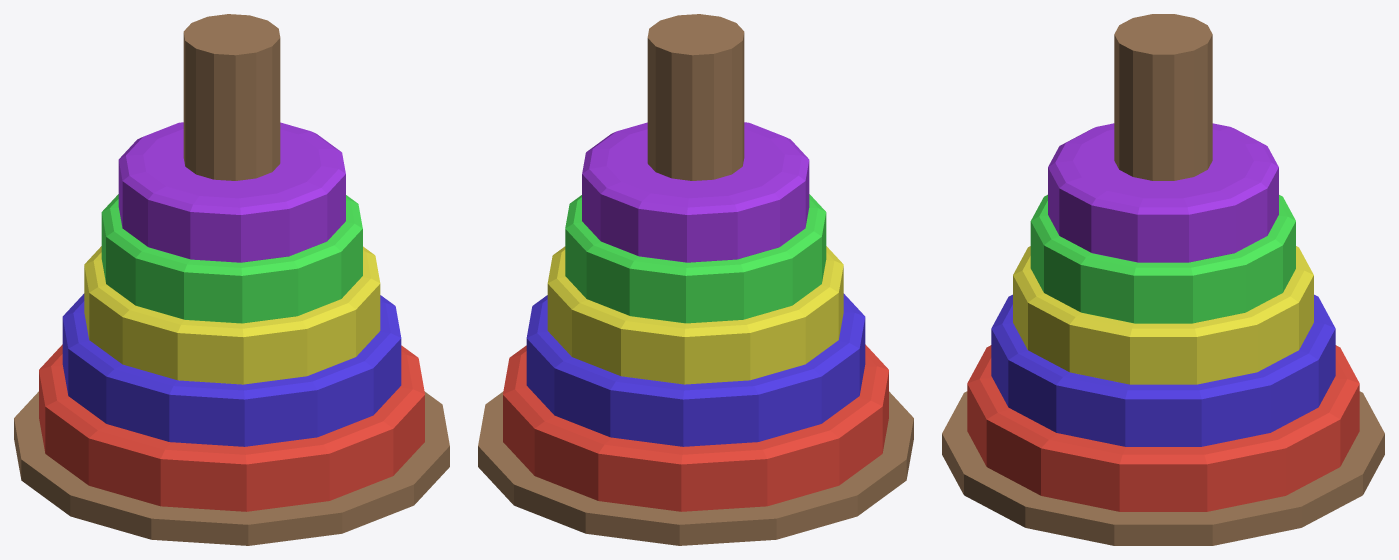
File: stacking_rings.fbx
3 views of the same model, side by side, from view 1: azimuth 30°, elevation 25°; view 2: azimuth 150°, elevation 25°; view 3: azimuth 270°, elevation 25° (orthographic).
Visible parts, largest first — view 1: Base, Red_ring, Blue_ring, Purple_ring, Yellow_ring, Green_ring; view 2: Base, Red_ring, Blue_ring, Purple_ring, Yellow_ring, Green_ring; view 3: Base, Red_ring, Blue_ring, Purple_ring, Yellow_ring, Green_ring.
Part boxes in pixels (box(x1,y1,x2,y2)): Base: box(14, 14, 449, 545); Red_ring: box(39, 344, 424, 511); Blue_ring: box(62, 293, 401, 446); Purple_ring: box(118, 122, 345, 262); Yellow_ring: box(84, 246, 380, 384); Green_ring: box(101, 194, 362, 323); Base: box(478, 14, 913, 545); Red_ring: box(503, 344, 888, 511); Blue_ring: box(526, 293, 865, 446); Purple_ring: box(582, 122, 809, 262); Yellow_ring: box(547, 246, 843, 384); Green_ring: box(565, 194, 826, 323); Base: box(942, 14, 1384, 545); Red_ring: box(967, 345, 1359, 511); Blue_ring: box(991, 294, 1335, 446); Purple_ring: box(1048, 123, 1278, 262); Yellow_ring: box(1013, 246, 1313, 384); Green_ring: box(1030, 194, 1295, 323).
Size of the model in its own units: 195 by 209 by 200.
